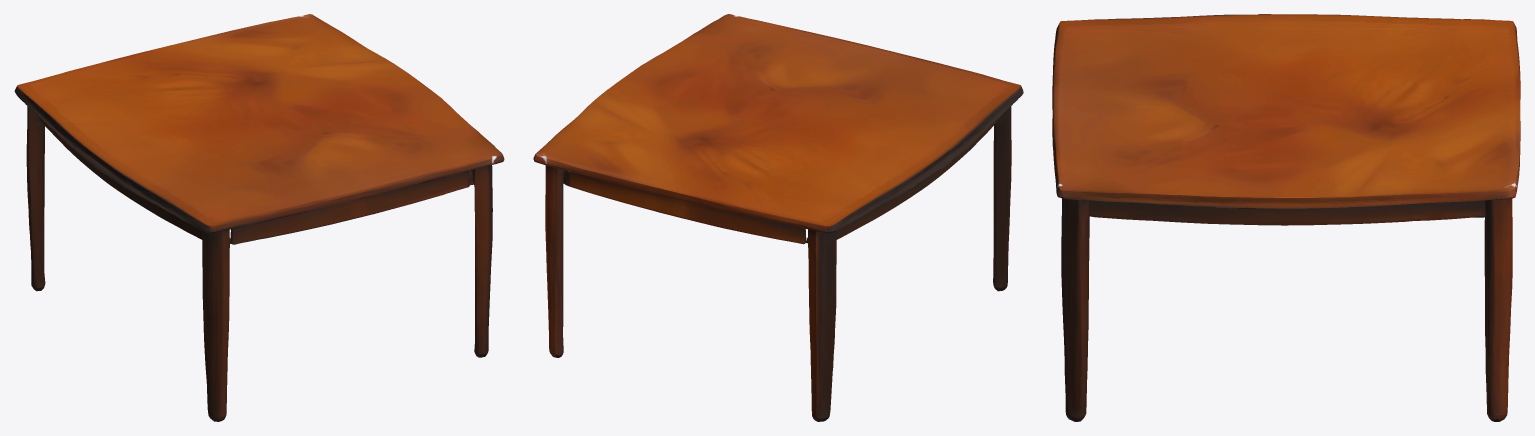
3 renders of one model, left to right at view 1: azimuth 30°, elevation 25°; view 2: azimuth 150°, elevation 25°; view 3: azimuth 270°, elevation 25°, orthographic. The views are drawn at different scales.
Visible parts, largest first — view 1: wooden_patterned_table.obj; view 2: wooden_patterned_table.obj; view 3: wooden_patterned_table.obj.
Part boxes in pixels (x1=…): wooden_patterned_table.obj: x1=14, y1=14, x2=504, y2=421; wooden_patterned_table.obj: x1=533, y1=14, x2=1023, y2=421; wooden_patterned_table.obj: x1=1052, y1=14, x2=1520, y2=421.
Bounding box in the file's own units: 1.14 × 0.6781 × 1.2.
1 material, 1 textured.
